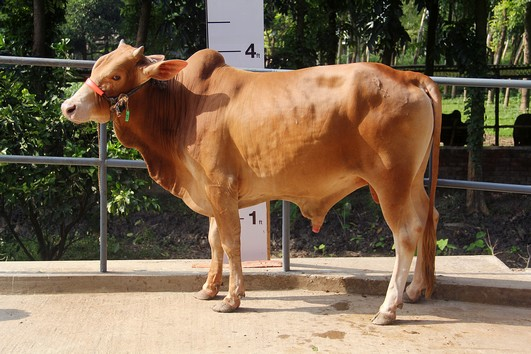cow: (55, 32, 449, 327)
